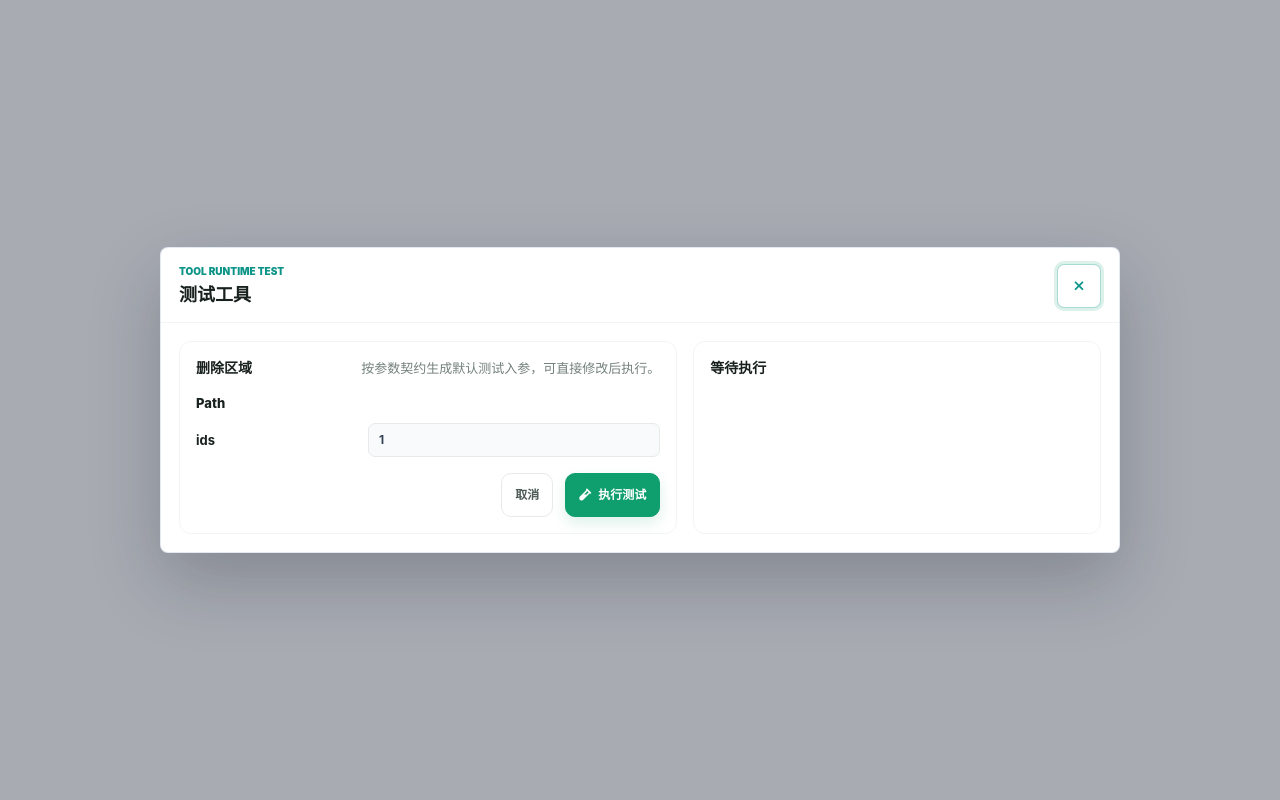
Test case: tool test dialog behavior › ignores rapid duplicate test clicks while a request is running
Click the button "执行测试".
click(613, 495)  # box [565,473,660,517]
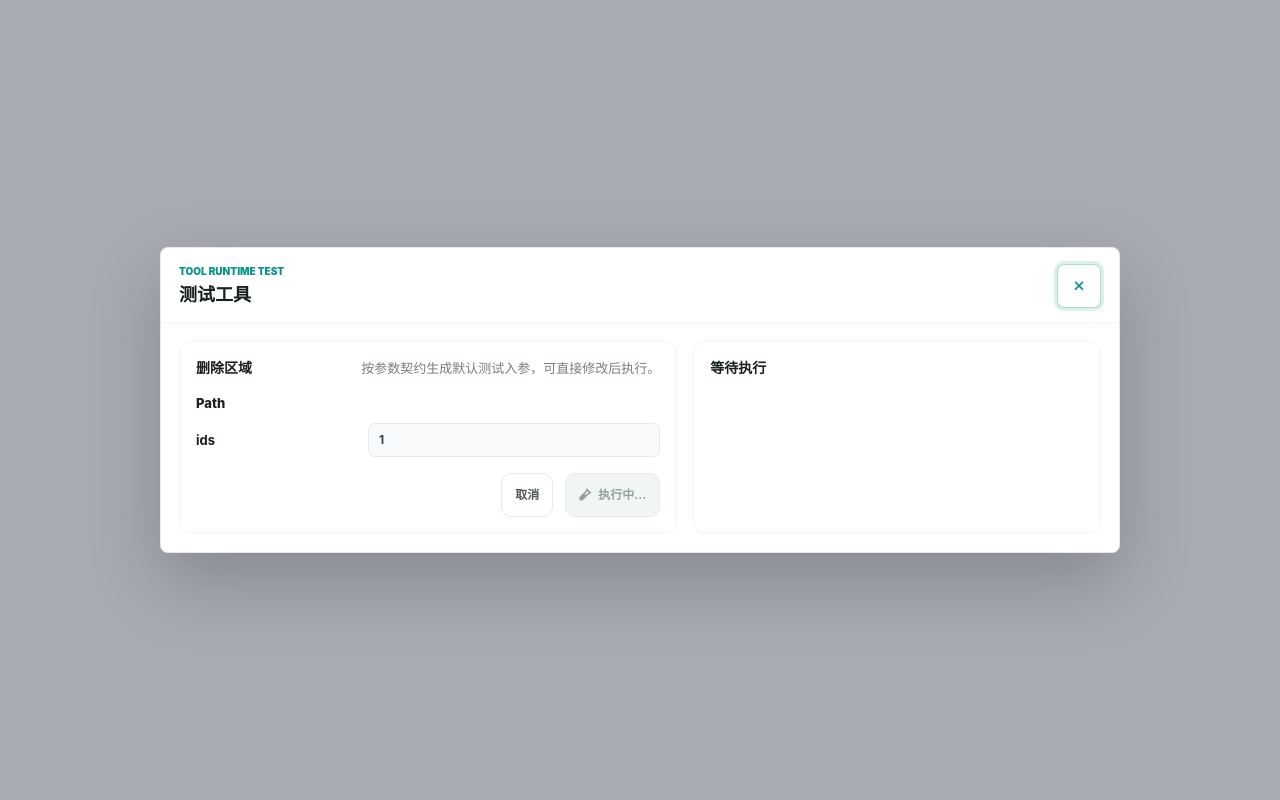
Click the button "执行中...".
click(613, 495)  # box [565,473,660,517]
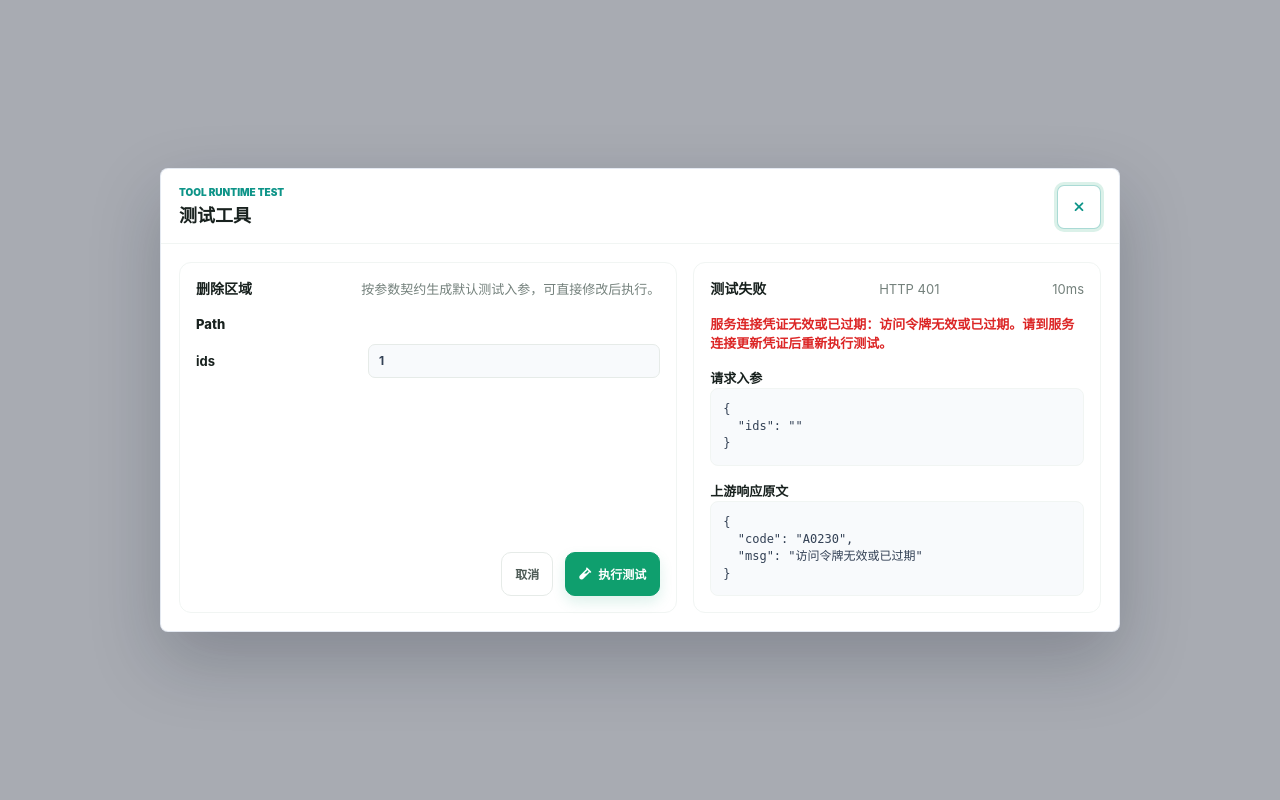
Expected: the text "服务连接凭证无效或已过期" is shown, [710,316,1074,351]
Expected: the text "访问令牌无效或已过期" is shown, [710,316,1074,351]
